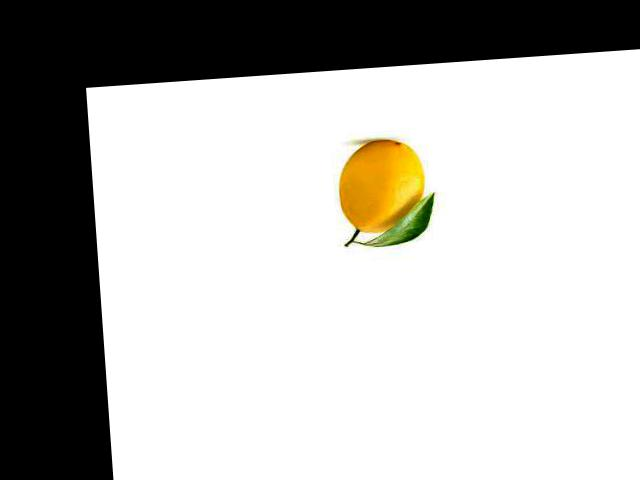lemon: (329, 129, 432, 243)
